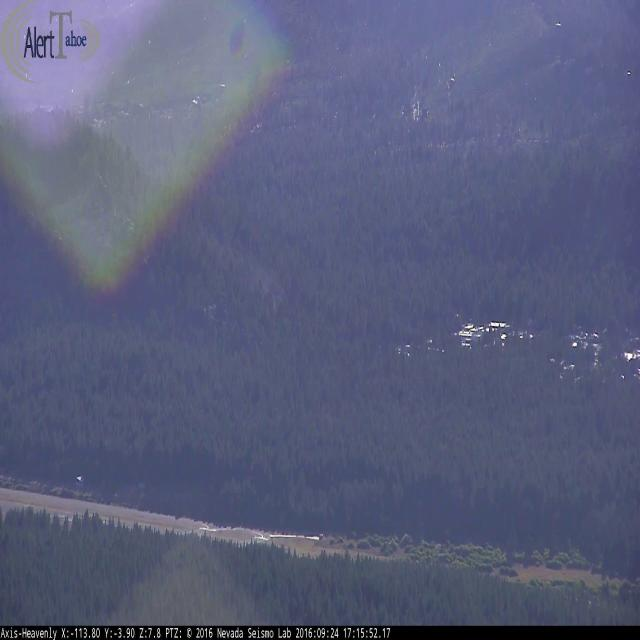smoke: (245, 255, 295, 312)
